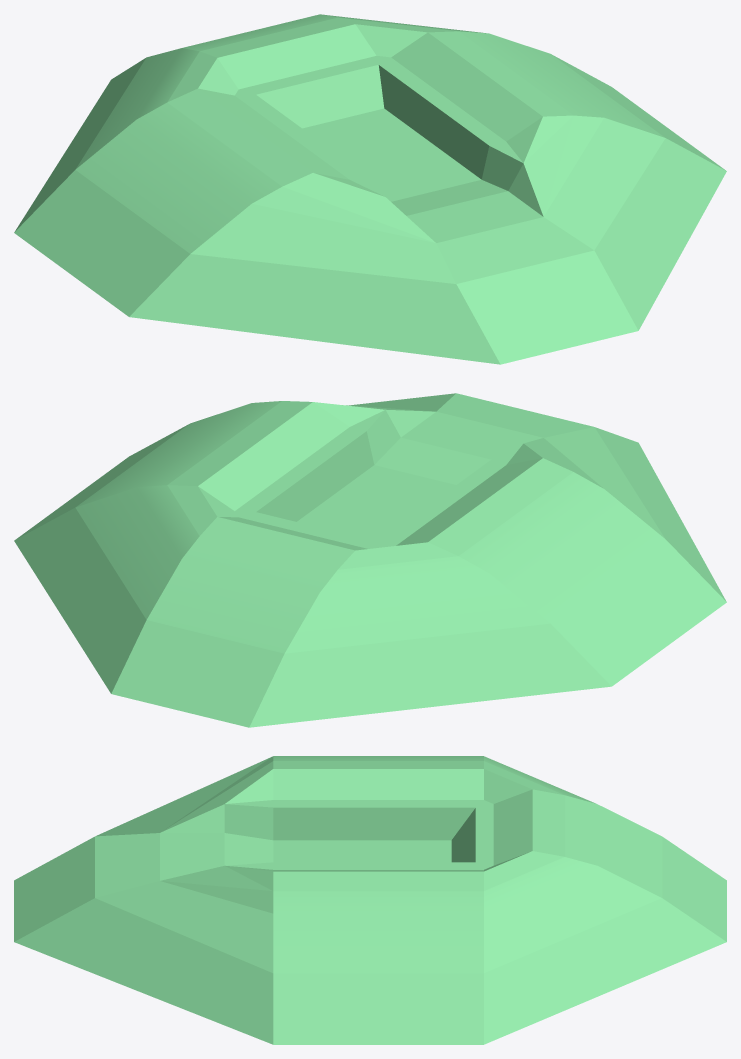
Rendered from VehicleDugout_BMP.fbx.
3 views of the same model, one above another, from view 1: azimuth 30°, elevation 25°; view 2: azimuth 150°, elevation 25°; view 3: azimuth 270°, elevation 25° (orthographic). The views are drawn at different scales.
Visible parts, largest first — view 1: UTM_VehicleDugoutBMP; view 2: UTM_VehicleDugoutBMP; view 3: UTM_VehicleDugoutBMP.
Boxes of the visible parts, bbox=[...] form: UTM_VehicleDugoutBMP: bbox=[14, 14, 726, 364]; UTM_VehicleDugoutBMP: bbox=[14, 393, 726, 727]; UTM_VehicleDugoutBMP: bbox=[14, 756, 726, 1044].
Size of the model in its own units: 1950 by 310 by 2200.
